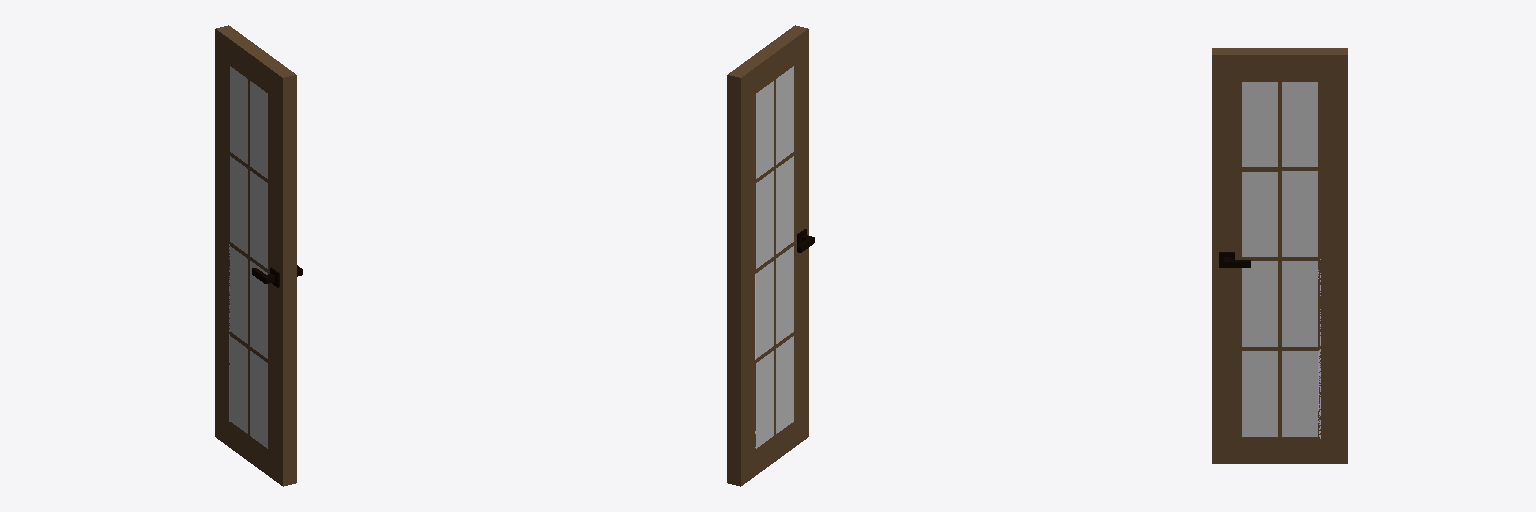
Rendered from door602_brown.obj.
The picture shows the model from 3 angles: view 1: azimuth 30°, elevation 25°; view 2: azimuth 150°, elevation 25°; view 3: azimuth 270°, elevation 25°; orthographic projection.
Visible parts, largest first — view 1: Cube; view 2: Cube; view 3: Cube.
Boxes of the visible parts, x1=… form: Cube: x1=215, y1=25, x2=302, y2=486; Cube: x1=727, y1=25, x2=814, y2=486; Cube: x1=1212, y1=48, x2=1347, y2=463.
Size of the model in its own units: 0.1899 by 2 by 0.5999.